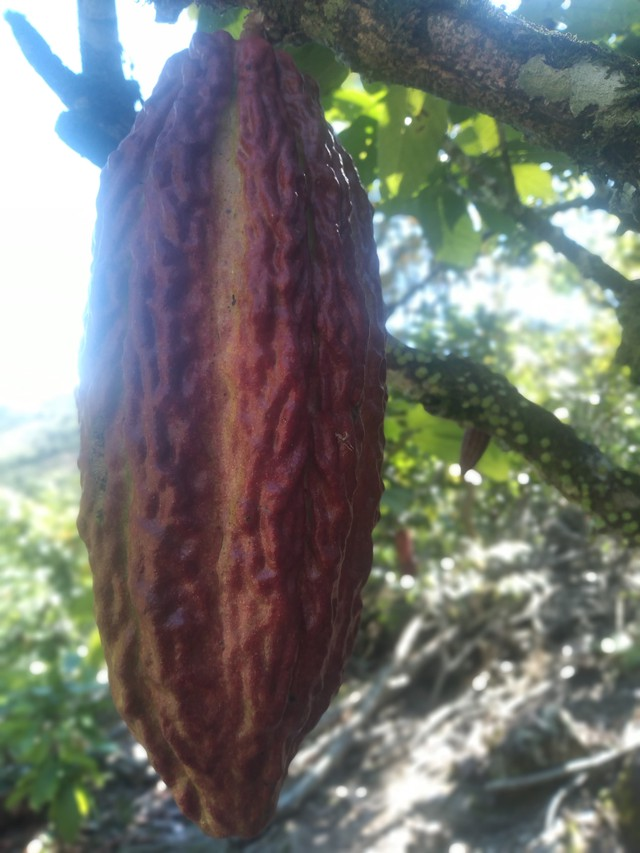Health: (52, 17, 400, 843)
